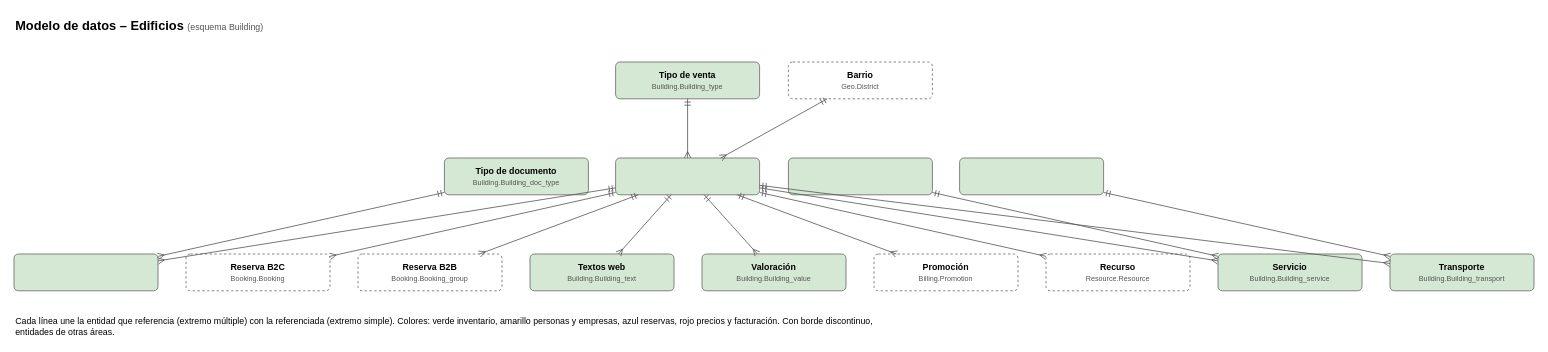
Some shapes in this 1548 by 352 pixel diagram are drawn without their labels. The shapes that lost their labels are listed below. From the top down, each one's centre as x and y in pixels, then its label:
At point (687, 176): "Edificio Building.Building".
At point (860, 176): "Tipo de servicio Building.Building_service_type".
At point (1031, 176): "Tipo de transporte Building.Building_transport_type".
At point (85, 272): "Documento Building.Building_doc".
